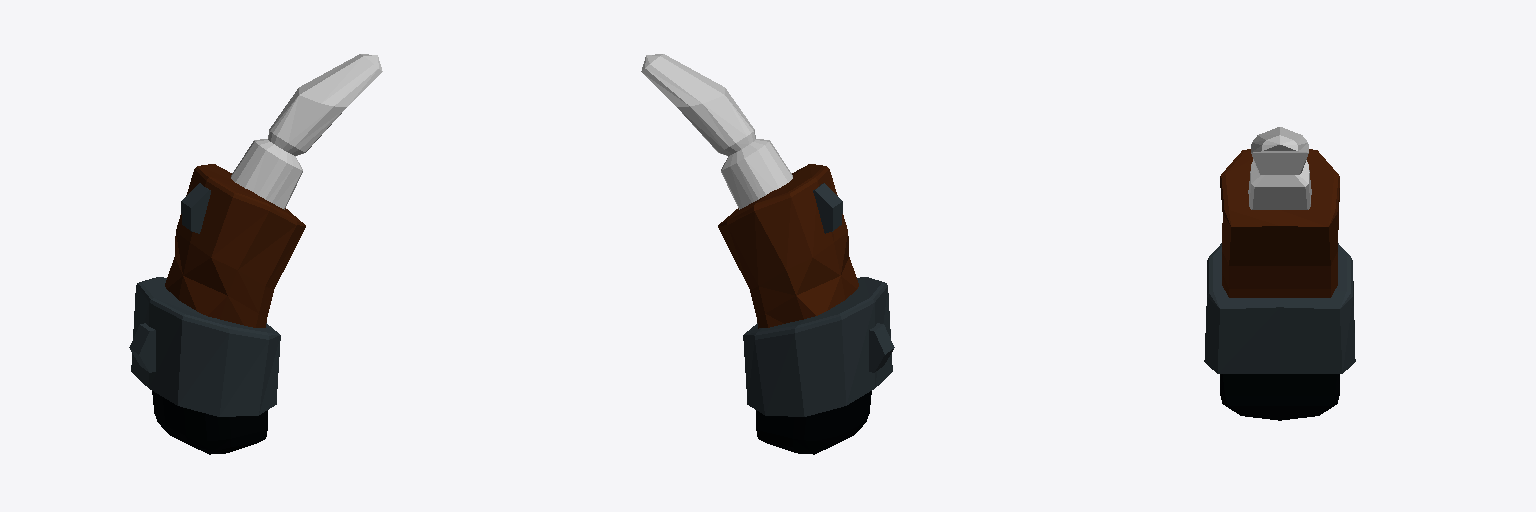
The model's file is character_skeletonKing_armRight.obj.
The picture shows the model from 3 angles: view 1: azimuth 30°, elevation 25°; view 2: azimuth 150°, elevation 25°; view 3: azimuth 270°, elevation 25°; orthographic projection.
Parts seen in each view (by area): view 1: character_skeletonKing_armRight_Cube.8099; view 2: character_skeletonKing_armRight_Cube.8099; view 3: character_skeletonKing_armRight_Cube.8099.
Boxes of the visible parts, x1=… form: character_skeletonKing_armRight_Cube.8099: x1=129, y1=54, x2=382, y2=454; character_skeletonKing_armRight_Cube.8099: x1=641, y1=54, x2=894, y2=454; character_skeletonKing_armRight_Cube.8099: x1=1204, y1=127, x2=1355, y2=420.
Bounding box in the file's own units: 0.417 × 0.5678 × 0.224.